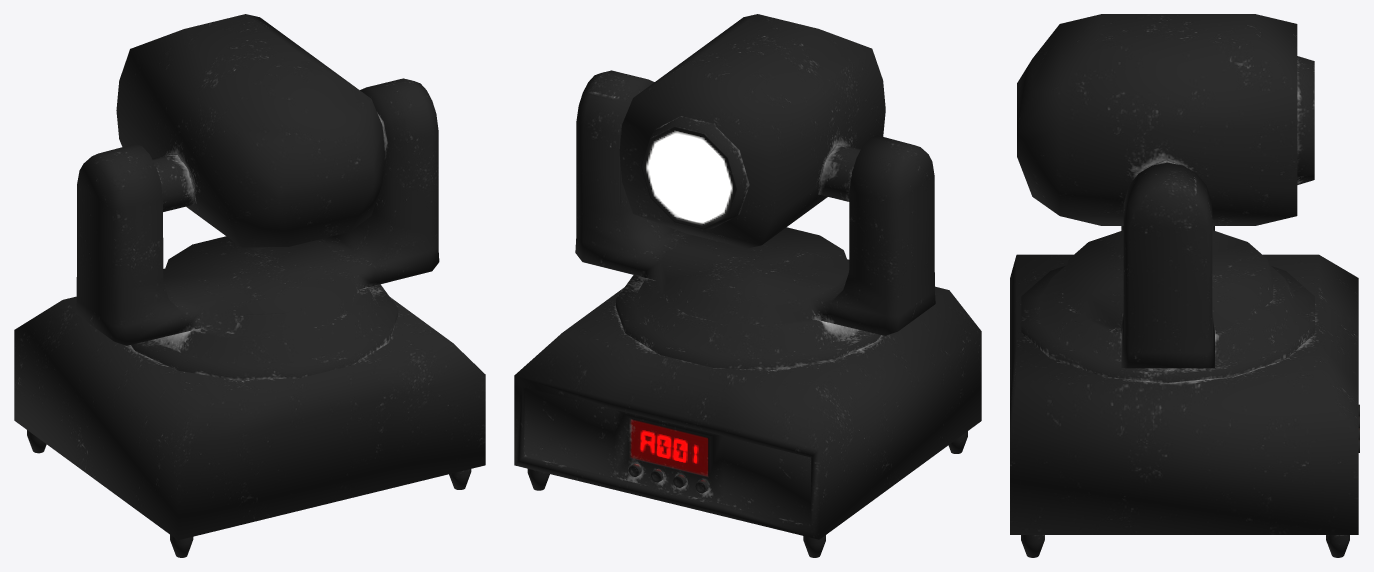
The model's file is stage-light.glb.
3 renders of one model, left to right at view 1: azimuth 30°, elevation 25°; view 2: azimuth 150°, elevation 25°; view 3: azimuth 270°, elevation 25°, orthographic. The views are drawn at different scales.
Parts seen in each view (by area): view 1: Box001; view 2: Box001; view 3: Box001.
Part boxes in pixels (x1,y1,x2,y2): Box001: (14, 14, 485, 557); Box001: (514, 14, 981, 557); Box001: (1010, 14, 1359, 557).
Size of the model in its own units: 1.61 by 2 by 1.4.
1 material, 1 textured.
